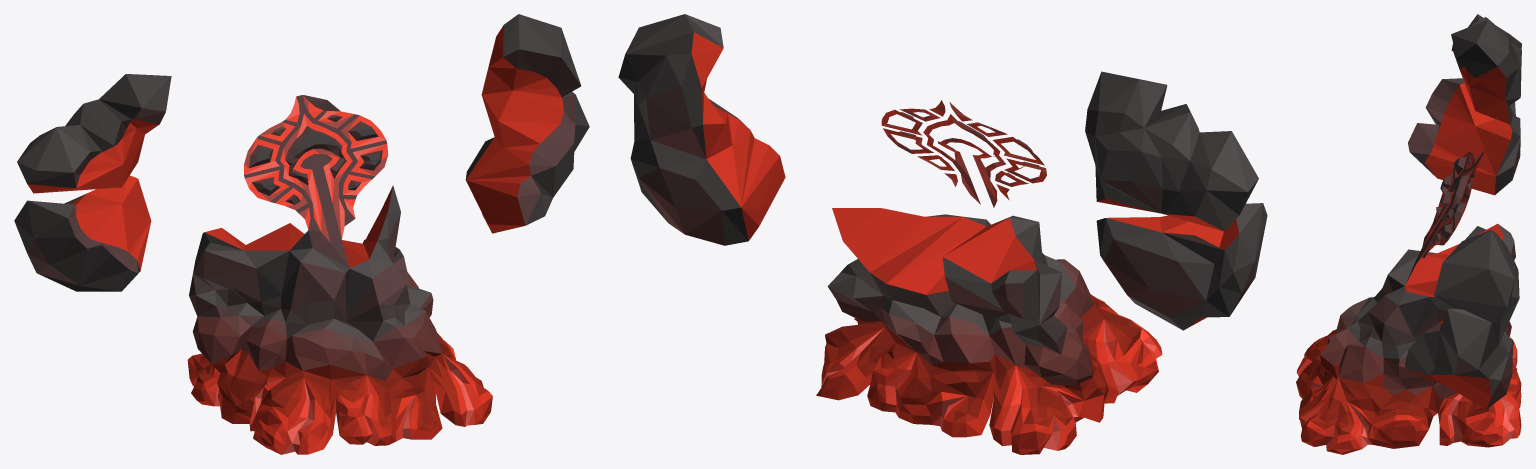
3 renders of one model, left to right at view 1: azimuth 30°, elevation 25°; view 2: azimuth 150°, elevation 25°; view 3: azimuth 270°, elevation 25°, orthographic. The views are drawn at different scales.
Bounding box in the file's own units: 980 × 585 × 382.
Materials: 1 (1 with a texture image).
